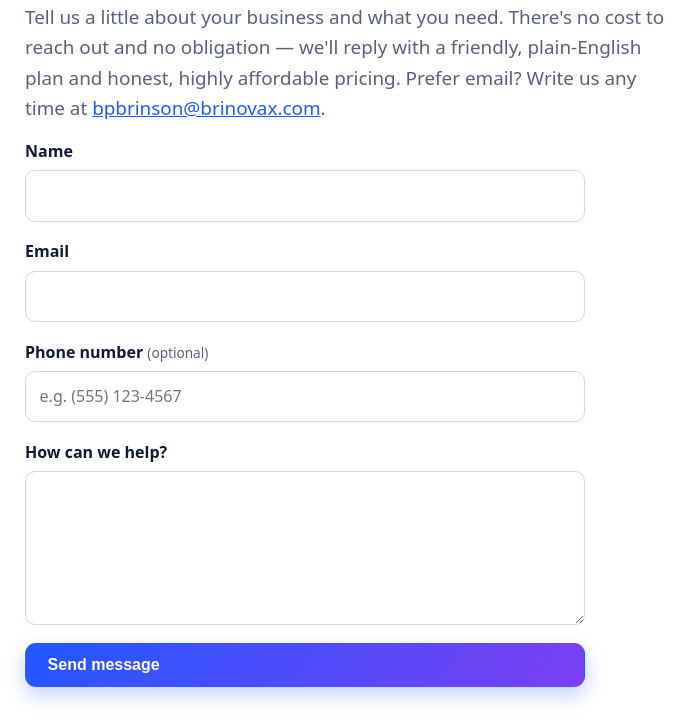
contact form validation › shows inline errors when submitting an empty form
The width and height of the screenshot is (681, 728).
(page scrolled)
Click the button "Send message".
click(104, 664)  # box [25, 643, 585, 687]
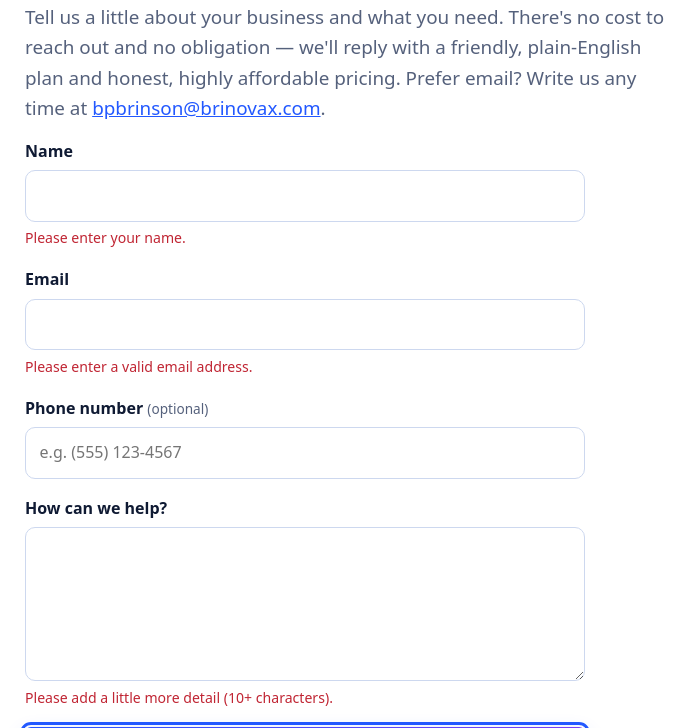
Now the text "Please enter your name." is shown, box [25, 228, 186, 247]
Now the text "Please enter a valid email address." is shown, box [25, 357, 252, 376]
